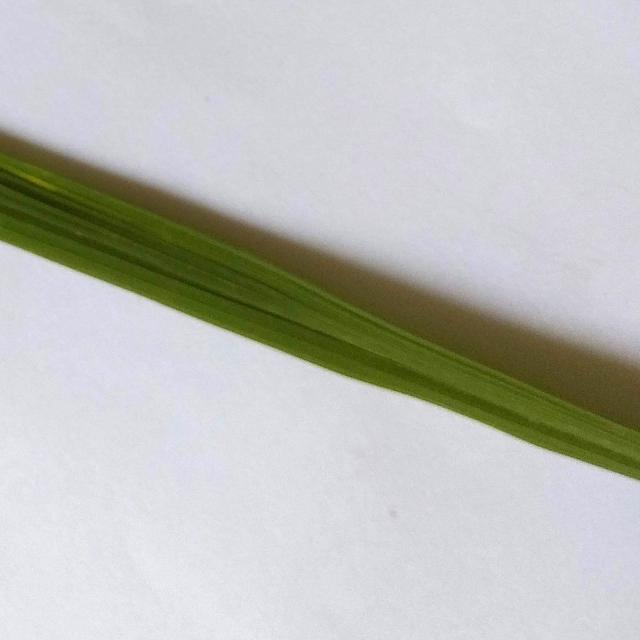healthy: (0, 84, 640, 504)
